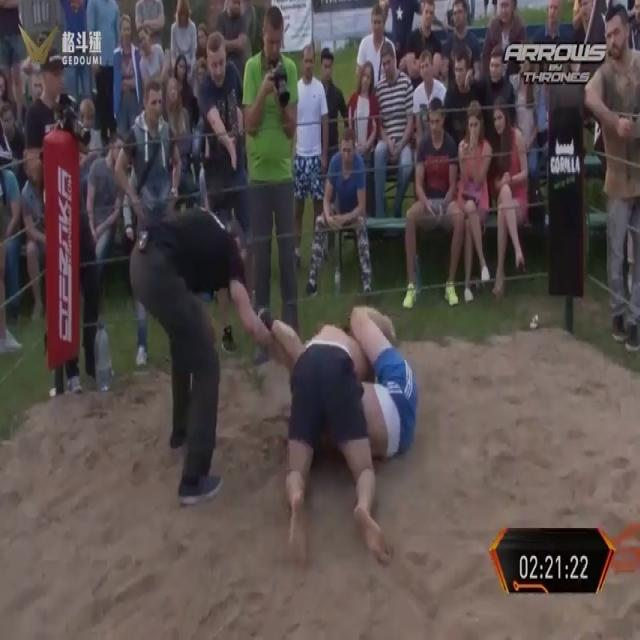fight: (262, 302, 419, 568)
non-fight: (131, 203, 269, 504), (244, 6, 298, 362), (587, 3, 640, 358), (197, 24, 253, 347), (125, 80, 182, 378), (400, 98, 462, 311), (308, 125, 370, 304), (90, 130, 132, 371), (488, 98, 532, 297), (454, 98, 492, 304), (294, 44, 328, 270), (372, 42, 414, 222), (317, 46, 347, 248), (345, 61, 379, 231), (24, 52, 66, 182), (21, 148, 49, 320), (88, 1, 122, 137), (533, 1, 569, 110), (409, 52, 446, 157), (482, 1, 526, 88), (442, 48, 480, 148), (404, 0, 445, 88), (113, 18, 143, 136), (0, 0, 27, 127), (58, 1, 90, 108), (475, 45, 516, 127), (355, 5, 394, 91), (443, 0, 482, 83), (216, 1, 251, 90), (165, 79, 192, 194), (512, 58, 538, 159), (169, 0, 196, 85), (173, 55, 200, 134), (385, 1, 419, 63), (1, 102, 26, 184), (138, 27, 164, 98), (75, 98, 100, 164), (134, 0, 164, 55)
